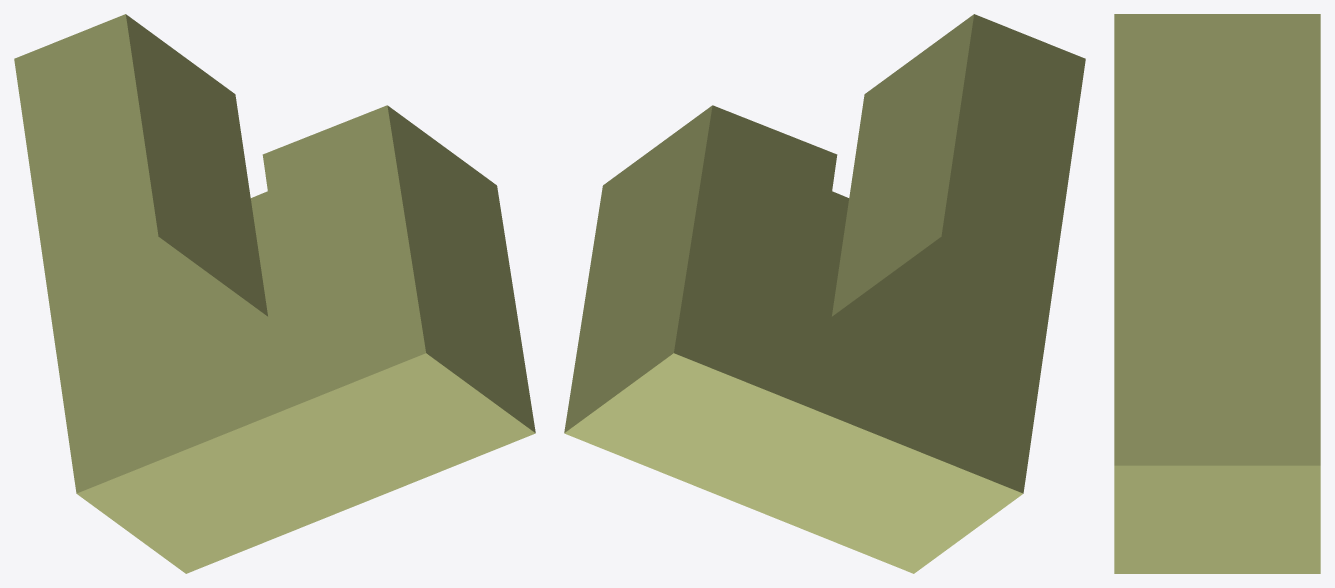
The picture shows the model from 3 angles, left to right: view 1: azimuth 30°, elevation 25°; view 2: azimuth 150°, elevation 25°; view 3: azimuth 270°, elevation 25°; orthographic projection. The views are drawn at different scales.
Visible parts, largest first — view 1: 0_1_2_0_3_1_3_2_1_0; view 2: 0_1_2_0_3_1_3_2_1_0; view 3: 0_1_2_0_3_1_3_2_1_0.
Boxes of the visible parts, left/top/right/bottom form: 0_1_2_0_3_1_3_2_1_0: left=14, top=14, right=535, bottom=573; 0_1_2_0_3_1_3_2_1_0: left=564, top=14, right=1085, bottom=573; 0_1_2_0_3_1_3_2_1_0: left=1114, top=14, right=1320, bottom=573.
Size of the model in its own units: 13.01 by 14.11 by 6.
